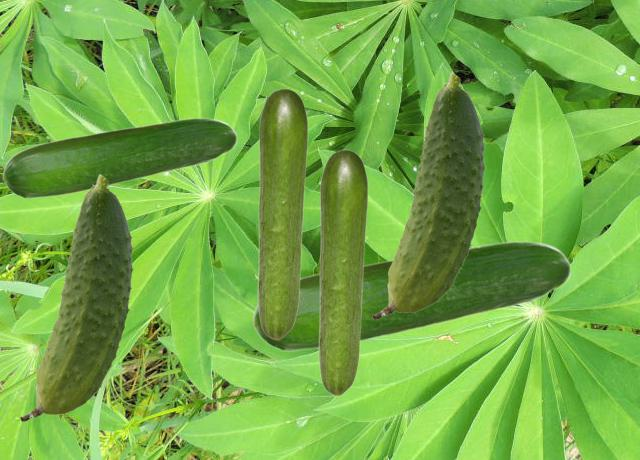cucumber: (252, 240, 570, 351), (20, 174, 133, 420), (372, 72, 485, 318), (2, 117, 236, 198), (257, 88, 307, 339), (318, 149, 367, 395)
